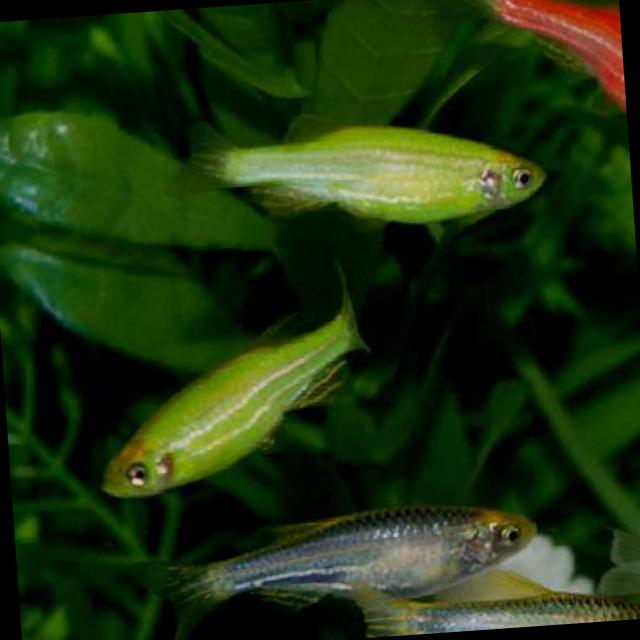ZebraFish: (76, 249, 382, 502), (160, 92, 552, 252)
